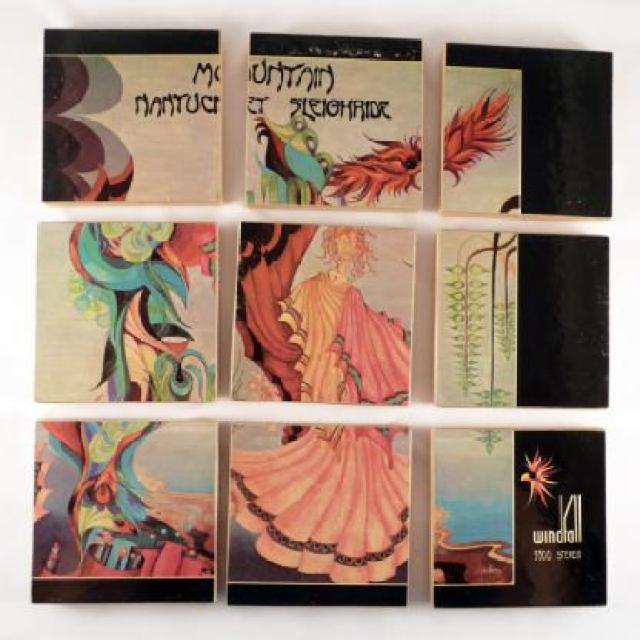Person: (230, 225, 413, 586)
